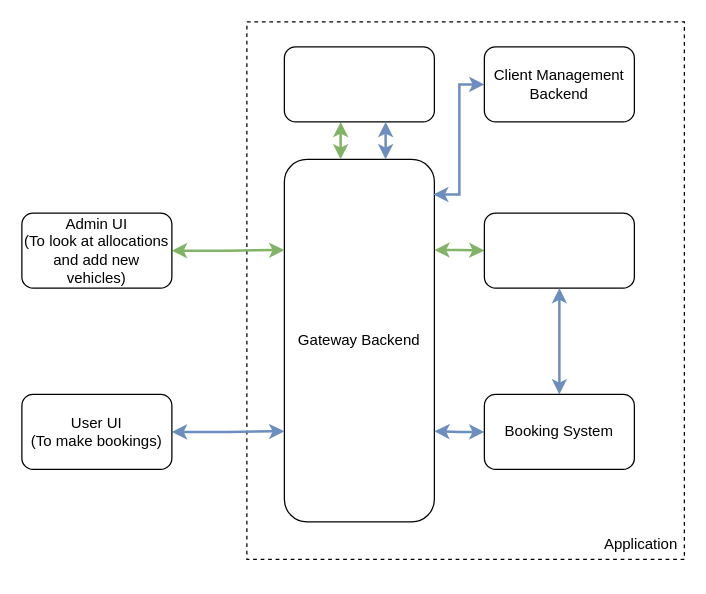
Image size: 706x594. Some labels were removed from this diagram. The centre of each missing label's shape, as x and y in pixels:
Authentication Backend: point (358, 84)
Inventory System (InvSys): point (558, 250)
